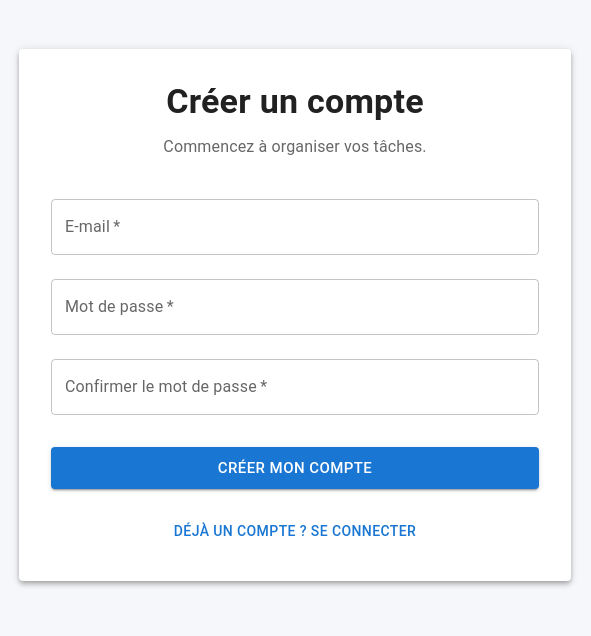
shows an error when password confirmation does not match
Type "alice@example.com" into the field labelled "E-mail *" at (295, 227), box x1=51 y1=199 x2=539 y2=255
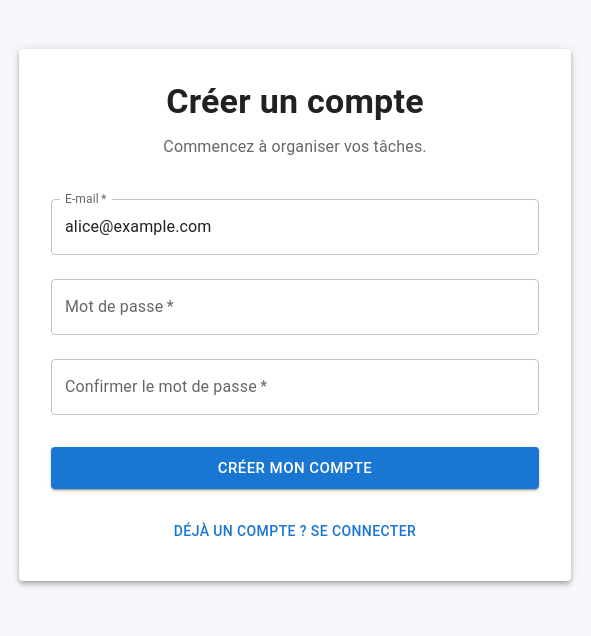
Type "Une phrase de passe robuste 2026!" into the password field labelled "Mot de passe *" at (295, 307), box x1=51 y1=279 x2=539 y2=335
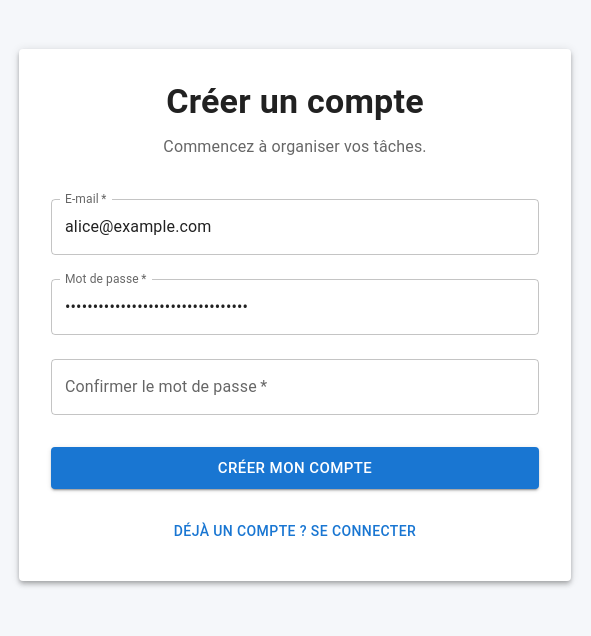
Type "mot de passe différent" into the password field labelled "Confirmer le mot de passe *" at (295, 387), box x1=51 y1=359 x2=539 y2=415
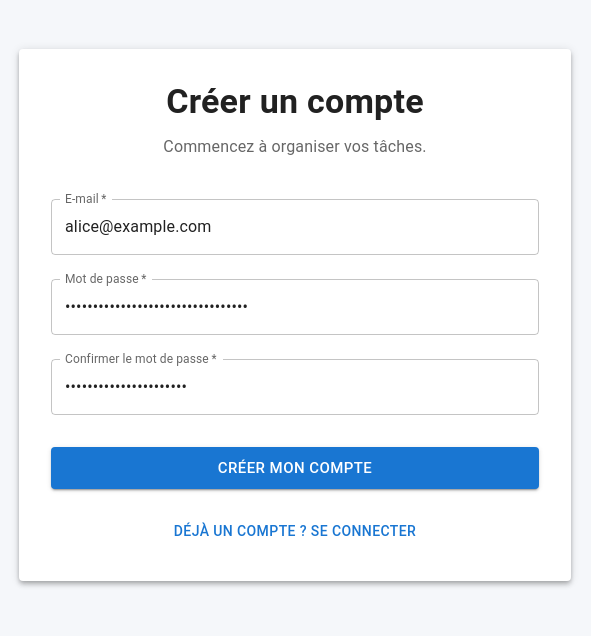
Click the button "Créer mon compte" at (295, 468), box x1=51 y1=447 x2=539 y2=489
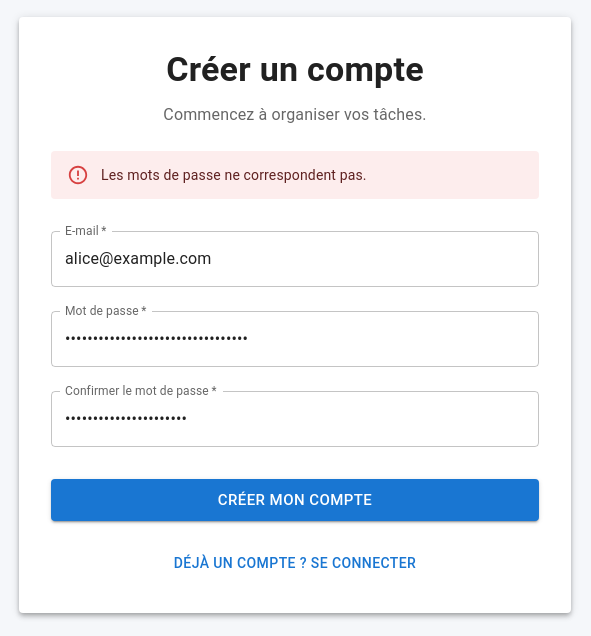
Result: the text "Les mots de passe ne correspondent pas." is shown at x1=101 y1=166 x2=367 y2=182
